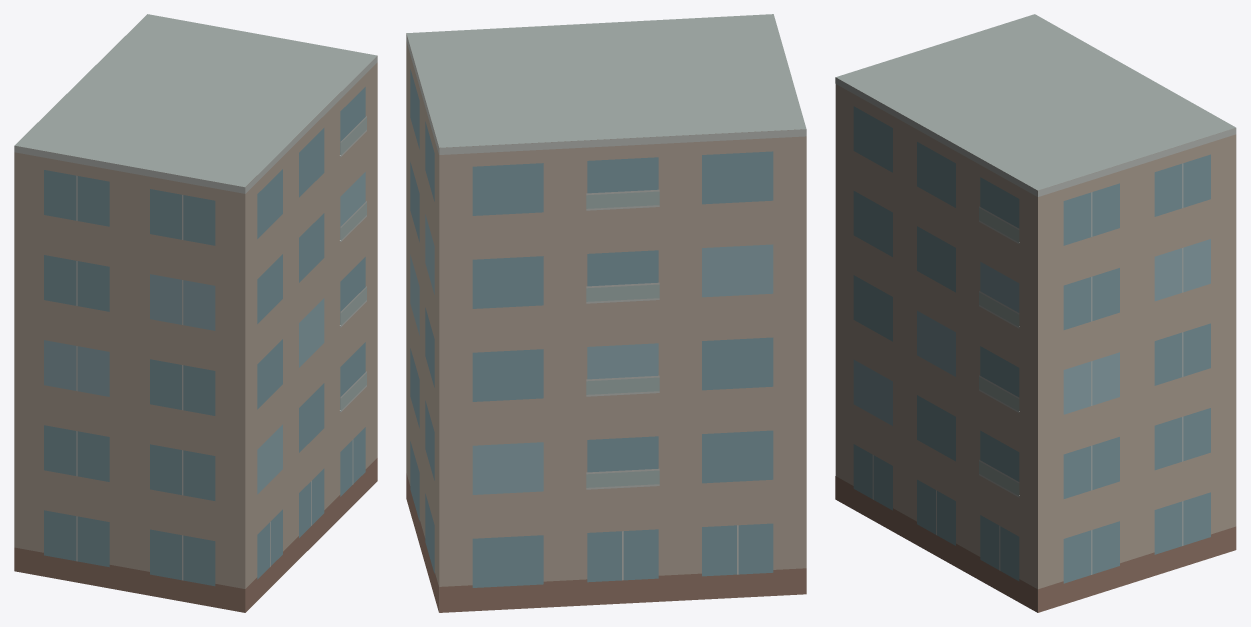
File: survey-upis-32533546.glb
The picture shows the model from 3 angles, left to right: view 1: azimuth 30°, elevation 25°; view 2: azimuth 150°, elevation 25°; view 3: azimuth 270°, elevation 25°; orthographic projection. The views are drawn at different scales.
Parts seen in each view (by area): view 1: survey-upis-32533546.tmp; view 2: survey-upis-32533546.tmp; view 3: survey-upis-32533546.tmp.
Boxes of the visible parts, box(x1,y1,x2,y2) form: survey-upis-32533546.tmp: box(14, 14, 377, 612); survey-upis-32533546.tmp: box(406, 14, 806, 612); survey-upis-32533546.tmp: box(835, 14, 1236, 612).
Bounding box in the file's own units: 14 × 15.6 × 13.43.
